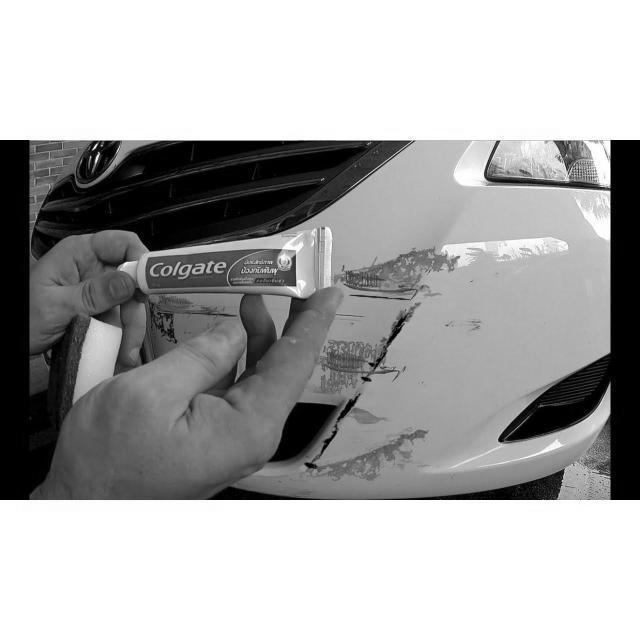front-bumper-dent: (127, 244, 614, 500)
